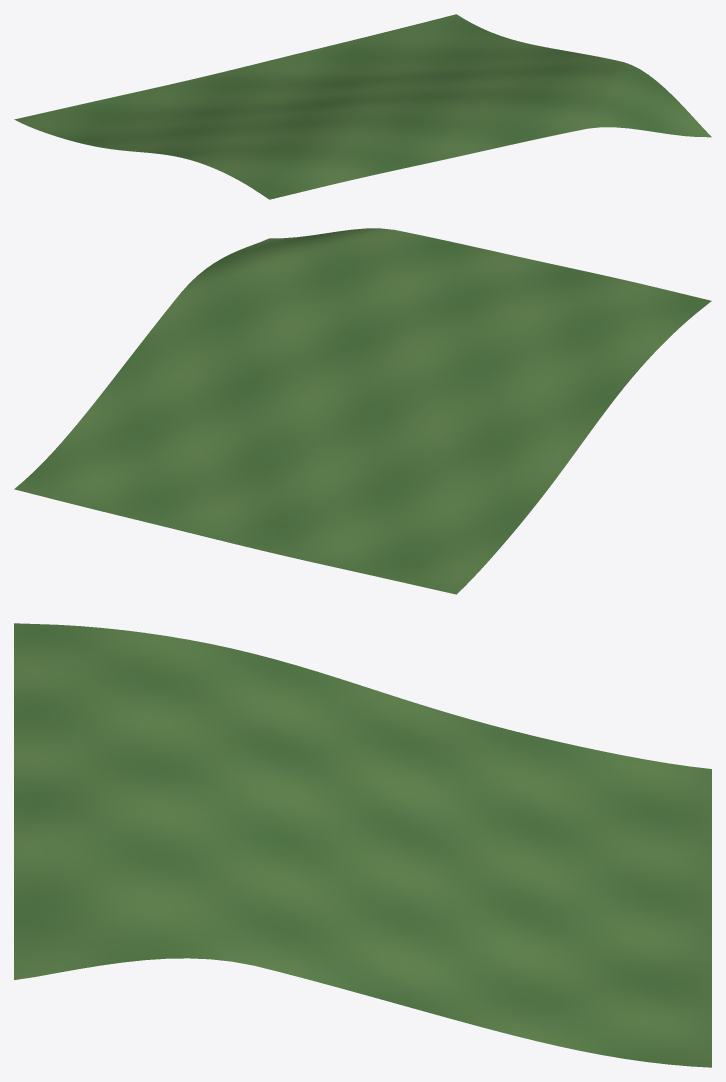
File: chunk_3_12.glb
3 renders of one model, top to bottom at view 1: azimuth 30°, elevation 25°; view 2: azimuth 150°, elevation 25°; view 3: azimuth 270°, elevation 25°, orthographic. The views are drawn at different scales.
Bounding box in the file's own units: 512 × 122 × 512.
